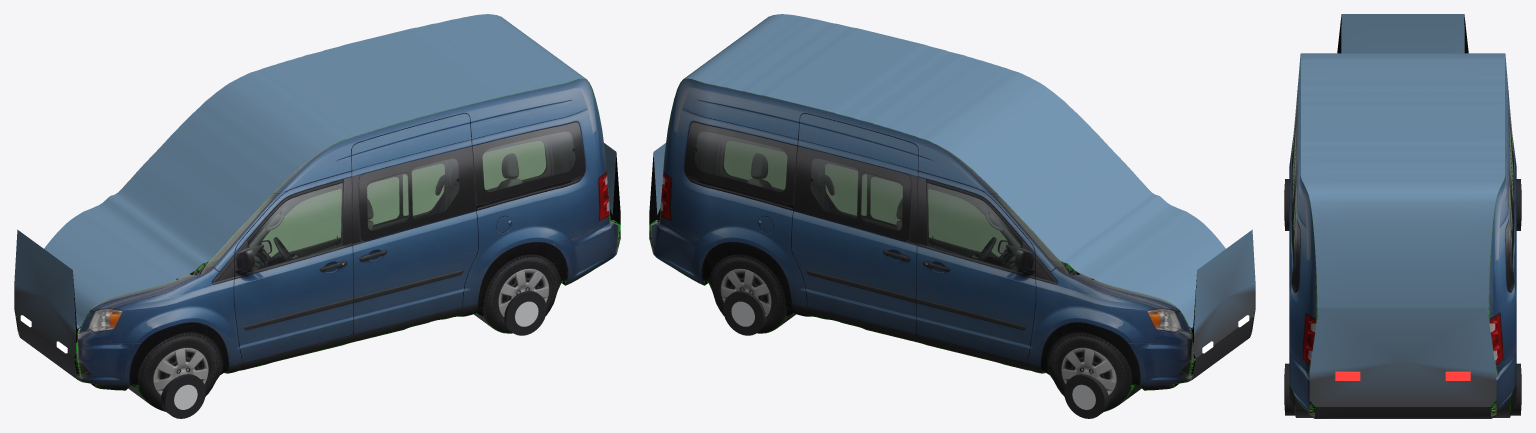
Rendered from minivan.glb.
The picture shows the model from 3 angles, left to right: view 1: azimuth 30°, elevation 25°; view 2: azimuth 150°, elevation 25°; view 3: azimuth 270°, elevation 25°; orthographic projection. The views are drawn at different scales.
Parts seen in each view (by area): view 1: minivan; view 2: minivan; view 3: minivan.
Boxes of the visible parts, <box> form: minivan: <box>14,14,620,418</box>; minivan: <box>649,14,1255,418</box>; minivan: <box>1284,14,1521,418</box>.
Size of the model in its own units: 4.23 by 1.79 by 1.46.
8 materials, 2 textured.
